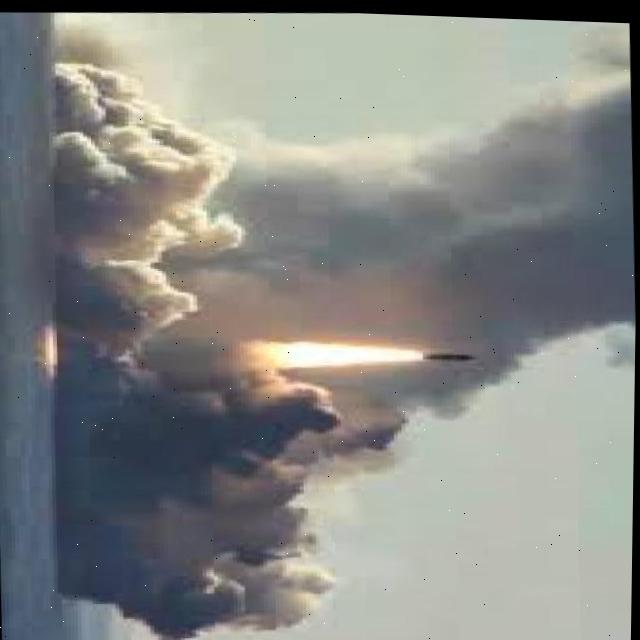missile: (419, 340, 479, 366)
